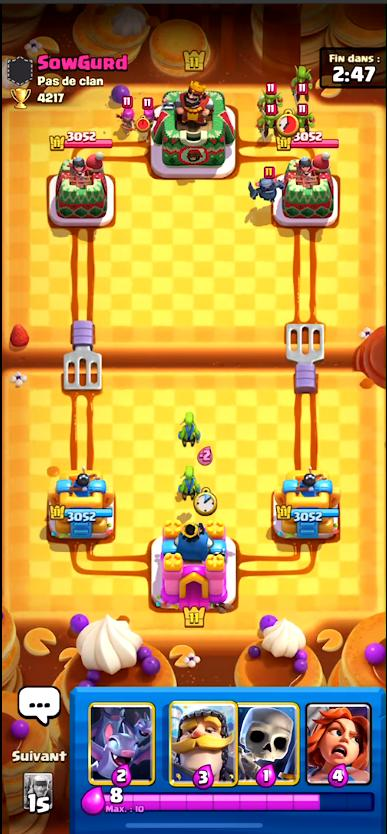gobelin: (291, 65, 312, 99), (180, 413, 200, 448), (179, 465, 197, 498), (258, 83, 282, 105), (260, 103, 277, 132), (296, 104, 315, 127)
